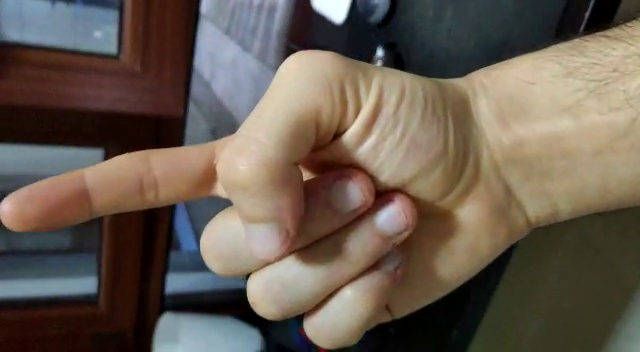One: (1, 122, 249, 242)
